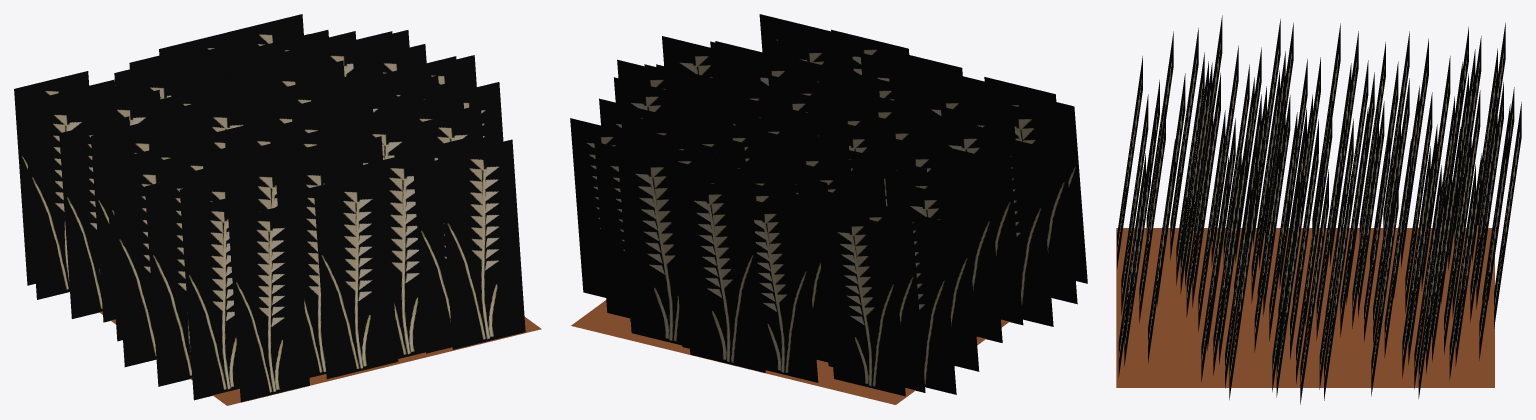
File: Cultivos.fbx
3 renders of one model, left to right at view 1: azimuth 30°, elevation 25°; view 2: azimuth 150°, elevation 25°; view 3: azimuth 270°, elevation 25°, orthographic. The views are drawn at different scales.
Visible parts, largest first — view 1: Plane.009; view 2: Plane.009; view 3: Plane.009.
Boxes of the visible parts, x1,y1,x2,y2 form: Plane.009: [14, 14, 541, 405]; Plane.009: [570, 14, 1087, 404]; Plane.009: [1116, 15, 1521, 404].
Size of the model in its own units: 123 by 58.41 by 107.
2 materials, 1 textured.
